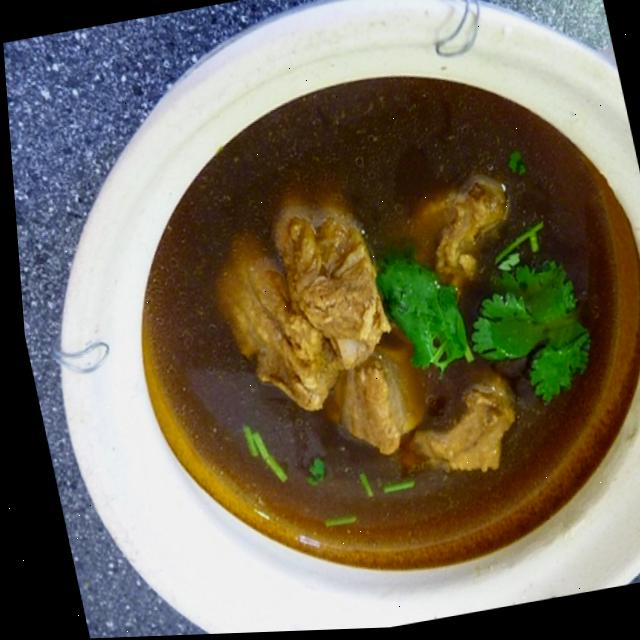汤锅炖物: (45, 0, 640, 639)
